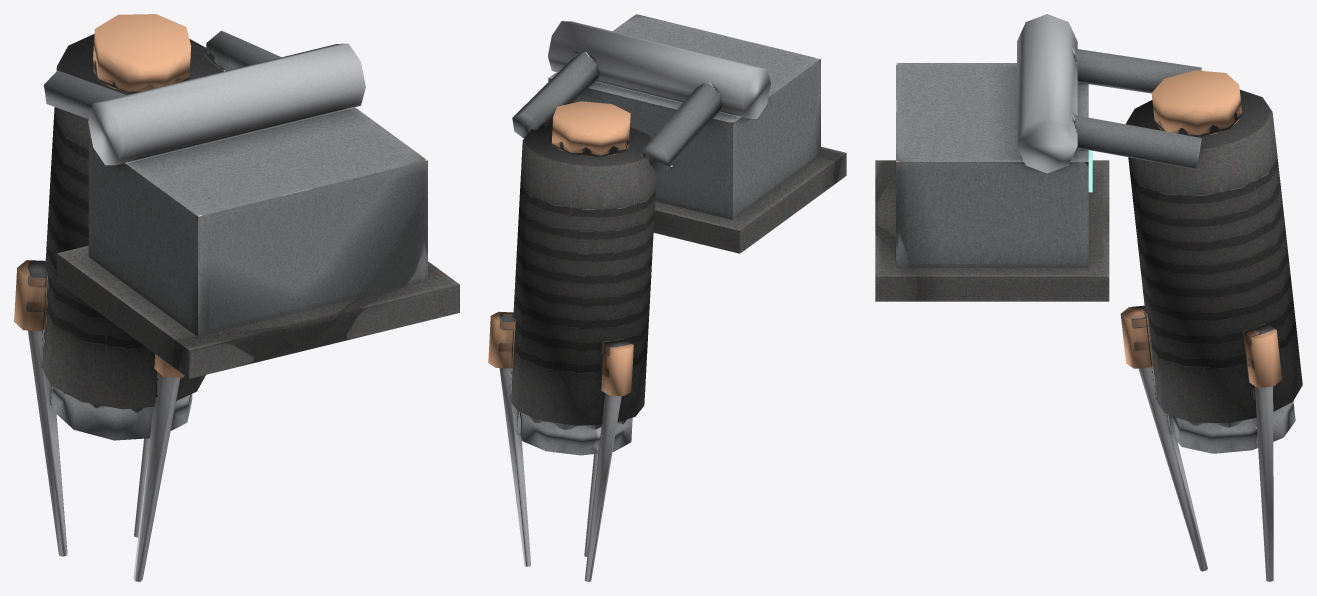
The model's file is ad2_arc_projector.gltf.
The picture shows the model from 3 angles, left to right: view 1: azimuth 30°, elevation 25°; view 2: azimuth 150°, elevation 25°; view 3: azimuth 270°, elevation 25°; orthographic projection. The views are drawn at different scales.
Visible parts, largest first — view 1: B_chest__ad2_arc_projector; view 2: B_chest__ad2_arc_projector; view 3: B_chest__ad2_arc_projector.
Boxes of the visible parts, bbox=[...] form: B_chest__ad2_arc_projector: bbox=[14, 14, 459, 581]; B_chest__ad2_arc_projector: bbox=[488, 14, 846, 581]; B_chest__ad2_arc_projector: bbox=[875, 14, 1302, 581].
Size of the model in its own units: 0.1 by 0.2021 by 0.1553.
1 material, 1 textured.
